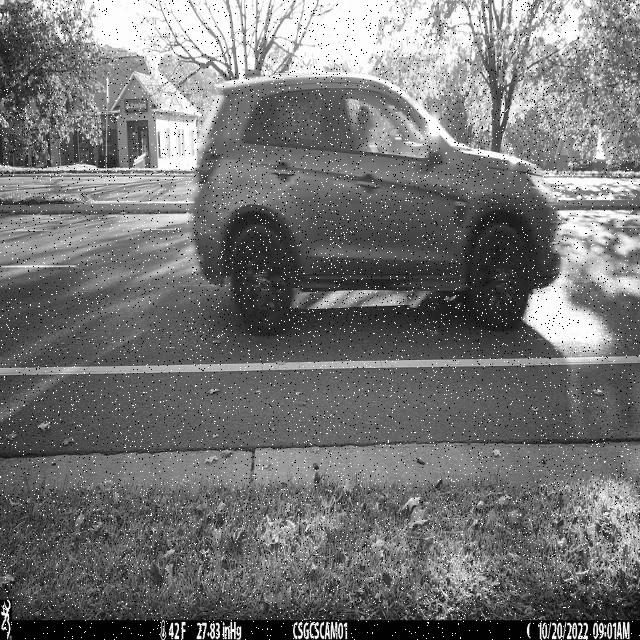SUV: (192, 69, 565, 336)
